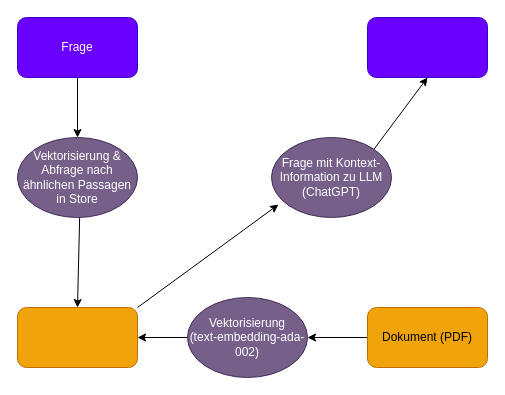
The diagram is 505 pixels wide and 395 high, and some of its shapes have lost their labels. Here are the shapes that lost their labels. From the top down, the box of each, then its label:
(366, 16, 488, 78): Antwort
(16, 306, 138, 368): Vector store (Chroma)
